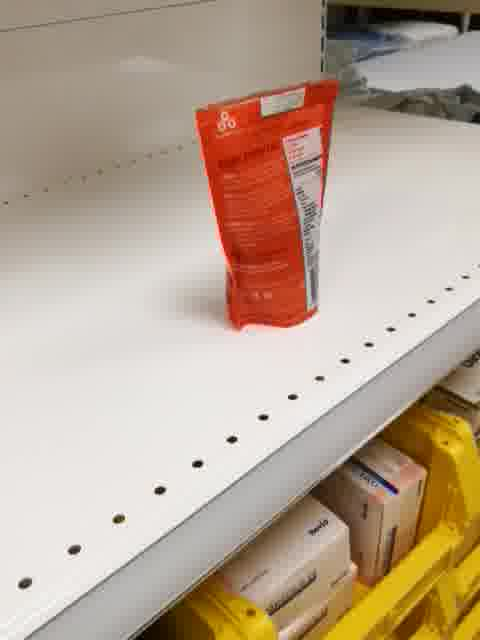whitechia: (194, 76, 340, 335)
